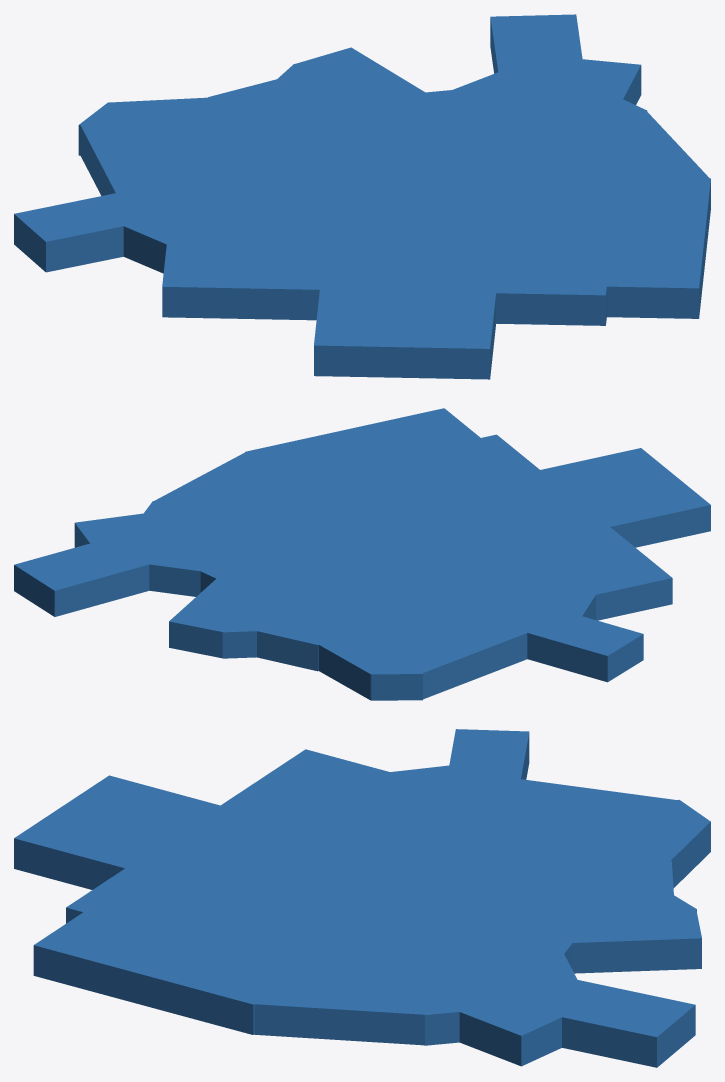
File: p_PuddleA.fbx
3 renders of one model, top to bottom at view 1: azimuth 30°, elevation 25°; view 2: azimuth 150°, elevation 25°; view 3: azimuth 270°, elevation 25°, orthographic. The views are drawn at different scales.
Parts seen in each view (by area): view 1: Water__57_, Water__56_, Water__54_, Water__58_, Water__55_, Water__59_, Water__67_, Water__69_, Water__63_, Water__68_, Water__72_, Water__71_ (+4 smaller); view 2: Water__56_, Water__57_, Water__54_, Water__58_, Water__59_, Water__69_, Water__67_, Water__55_, Water__72_, Water__61_, Water__64_, Water__63_ (+5 smaller); view 3: Water__57_, Water__56_, Water__58_, Water__54_, Water__59_, Water__55_, Water__69_, Water__72_, Water__71_, Water__67_, Water__63_, Water__61_ (+4 smaller).
Part boxes in pixels (x1,y1,x2,y2): Water__57_: (162,169,607,325); Water__56_: (80,85,562,208); Water__54_: (314,275,497,379); Water__58_: (593,176,710,318); Water__55_: (426,58,647,149); Water__59_: (499,110,709,178); Water__67_: (14,189,171,272); Water__69_: (490,14,586,91); Water__63_: (260,64,411,117); Water__68_: (103,199,193,273); Water__72_: (295,47,430,112); Water__71_: (546,59,641,109); Water__56_: (164,498,565,699); Water__57_: (285,434,672,620); Water__54_: (514,448,710,547); Water__58_: (245,408,484,485); Water__59_: (153,452,351,523); Water__69_: (14,529,149,616); Water__67_: (501,602,643,682); Water__55_: (109,501,262,596); Water__72_: (169,579,258,658); Water__61_: (308,628,403,700); Water__64_: (234,613,332,671); Water__63_: (214,583,292,658); Water__57_: (66,749,538,970); Water__56_: (326,771,678,979); Water__58_: (33,908,309,1034); Water__54_: (14,775,249,889); Water__59_: (254,938,434,1045); Water__55_: (393,939,587,1045); Water__69_: (497,973,695,1067); Water__72_: (554,909,701,973); Water__71_: (440,985,562,1066); Water__67_: (444,729,529,795); Water__63_: (544,886,696,940); Water__61_: (639,814,710,887).
Bounding box in the file's own units: 1080 × 50 × 1032.
